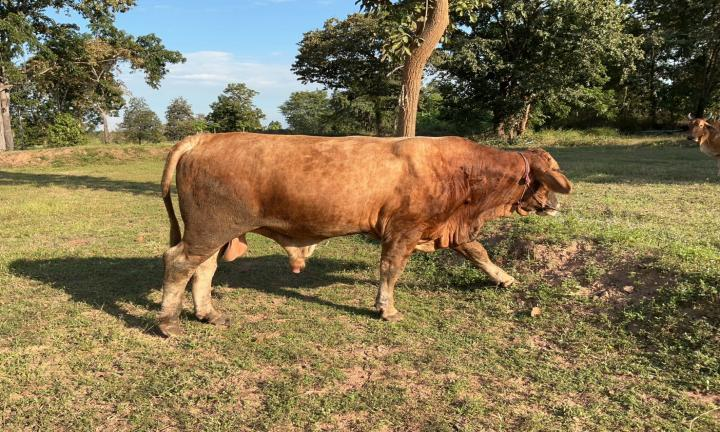Charolais: (159, 132, 571, 335)
